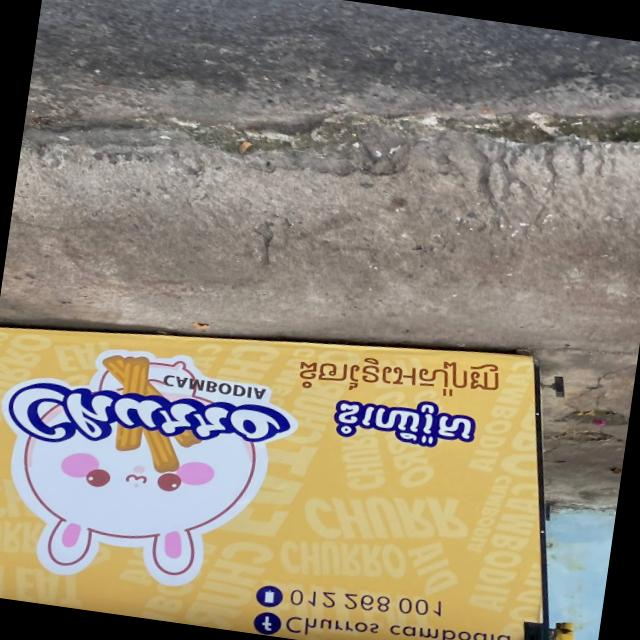247: (281, 582, 455, 625)
Yolov11kh: (288, 352, 508, 405), (331, 399, 482, 459)
